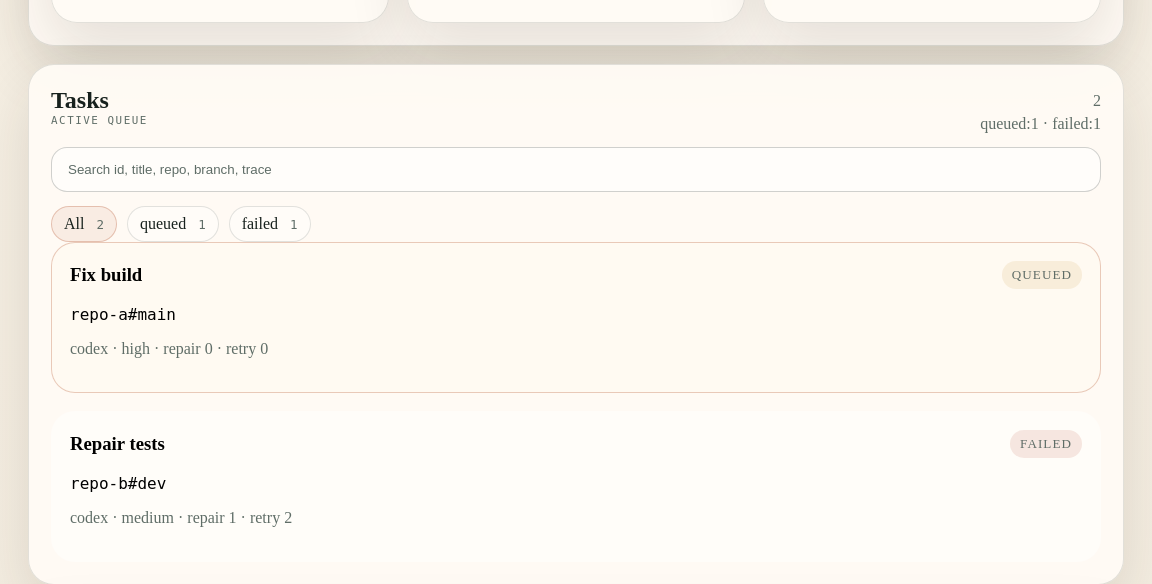
Scenario: App › surfaces retry and block execution summaries in task detail
This screenshot has width=1152, height=584.
(page scrolled)
Expected: the heading "Fix build" is shown, [70,264,142,286]
Click the button "failed 1". click: (270, 224)
box: [229,206,311,242]
(page scrolled)
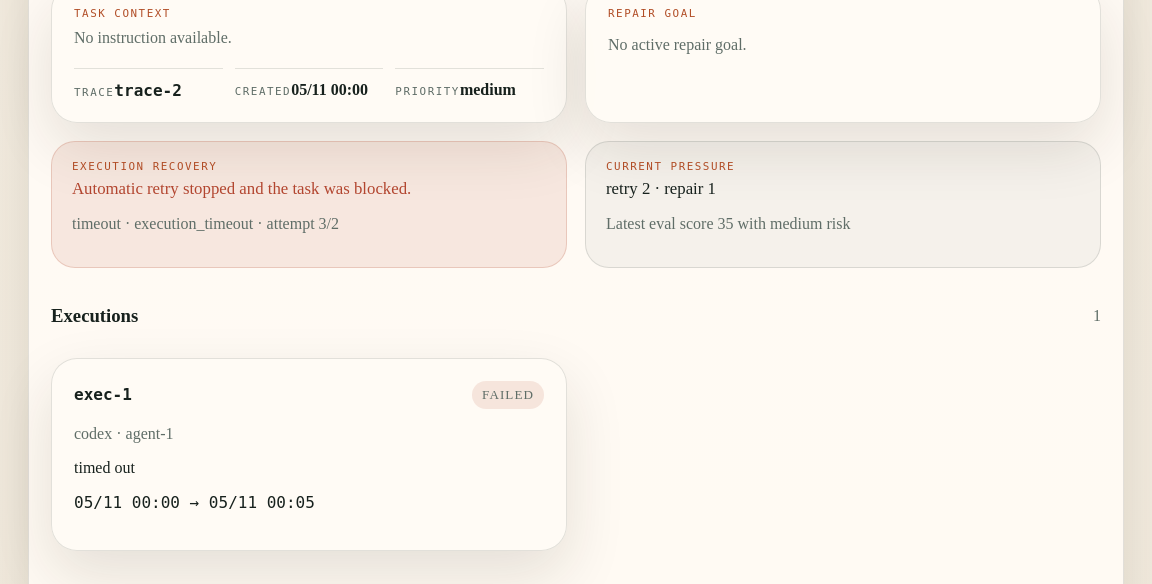
Now the text "Automatic retry stopped and the task was blocked." is shown, box [72,179,411,198]
Now the text "timeout · execution_timeout · attempt 3/2" is shown, box [72,215,339,232]
